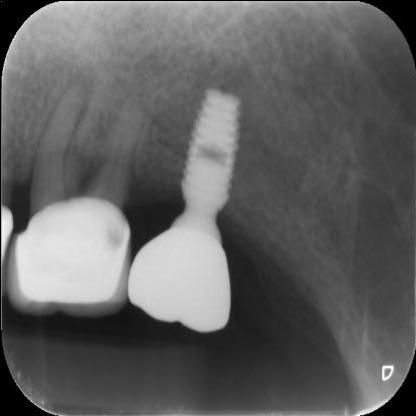Bicon: (154, 84, 246, 256)
